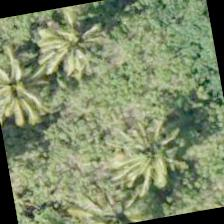Kelapa_Sawit: (103, 96, 207, 200), (26, 0, 130, 96), (0, 34, 70, 135), (68, 164, 168, 223)
